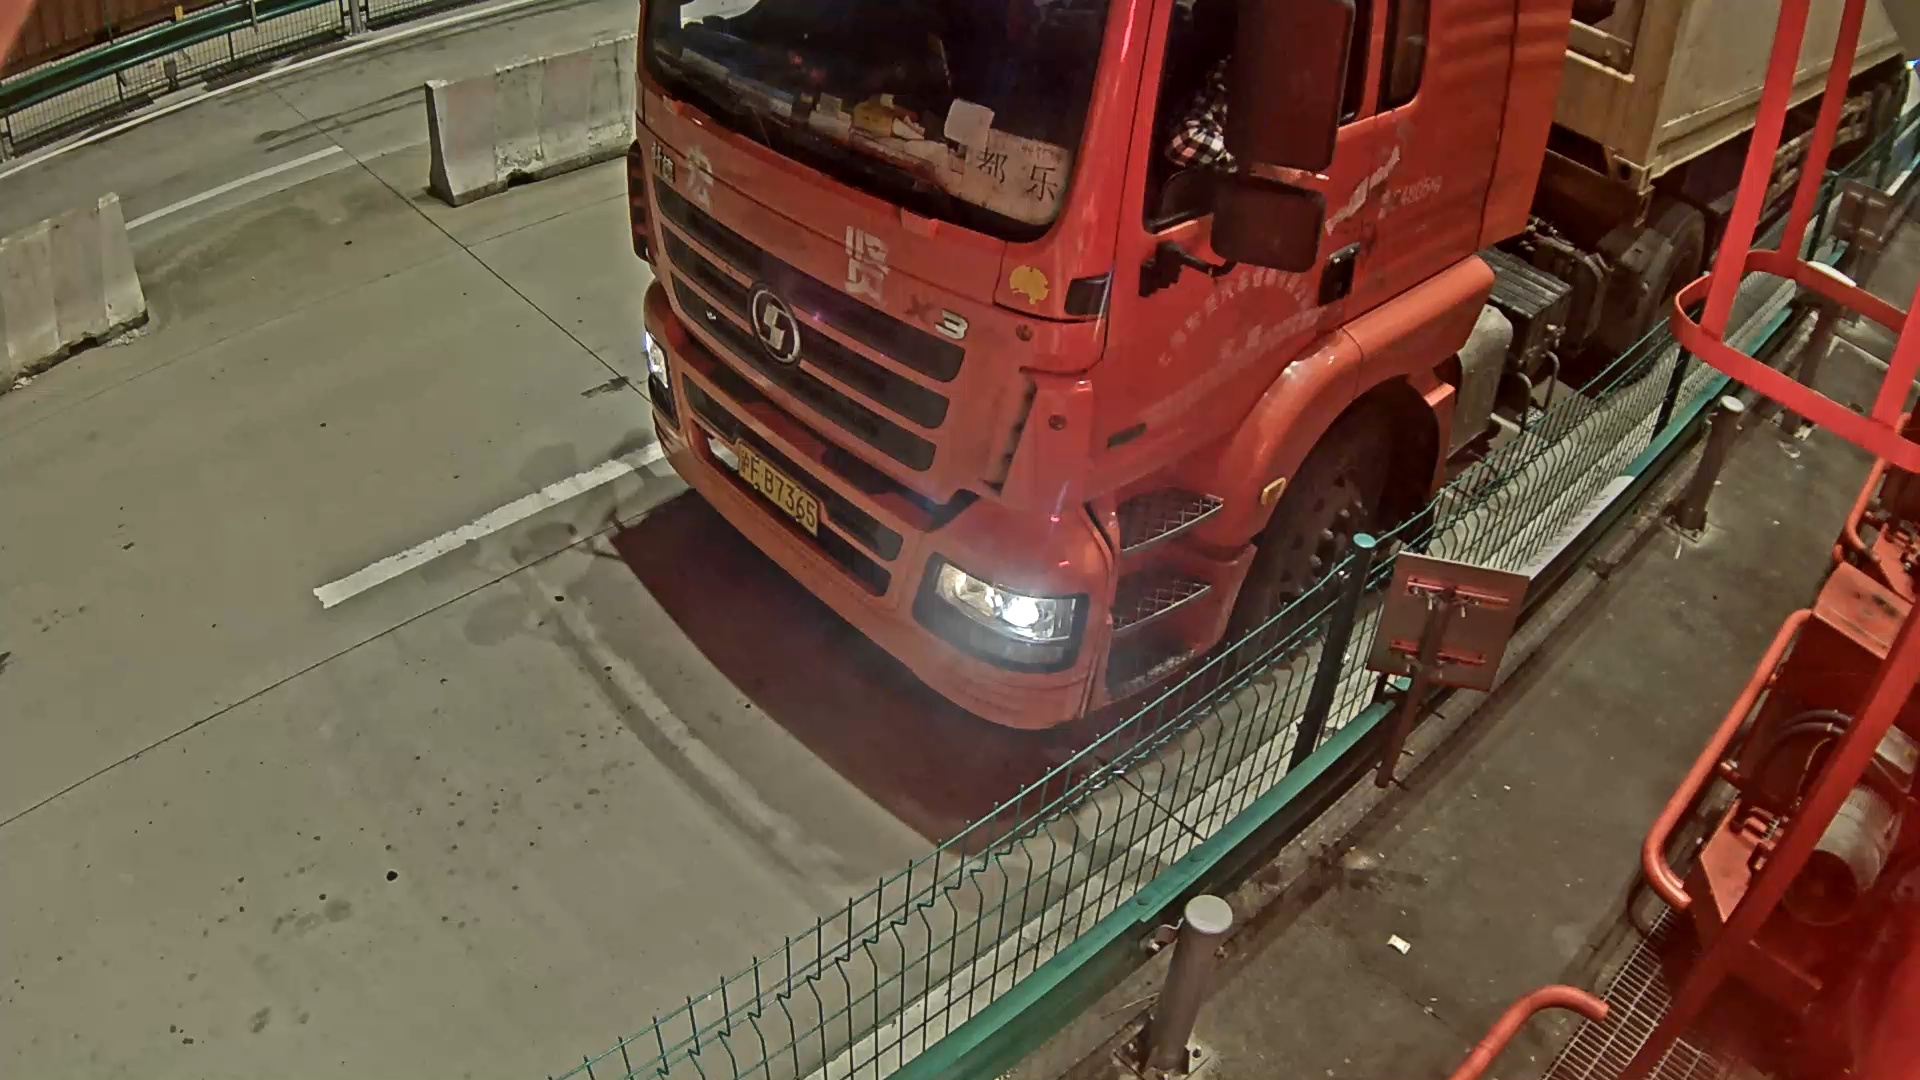head: (620, 1, 1571, 735)
plate: (735, 444, 818, 534)
